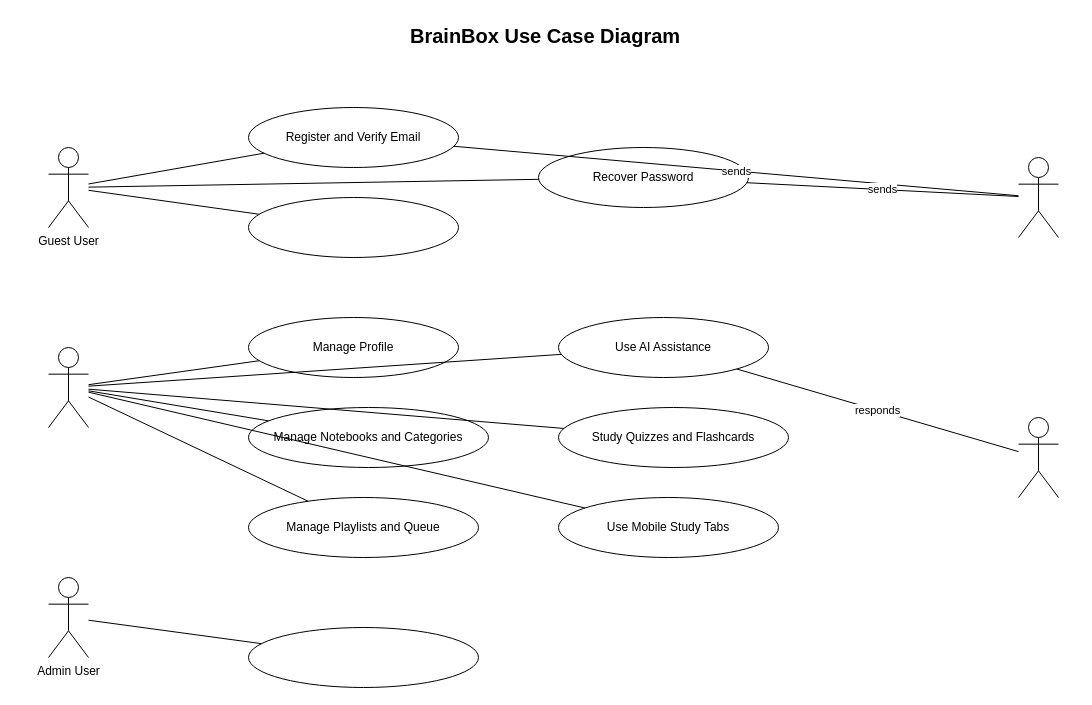
The diagram is 1092 pixels wide and 705 high, and some of its shapes have lost their labels. The centre of each missing label's shape, as x and y in pixels:
AI Proxy: pixel 1038 457
Authenticated User: pixel 68 387
Email Service: pixel 1038 197
Login or Google Sign-In: pixel 353 227
Manage Users and Records: pixel 363 657
